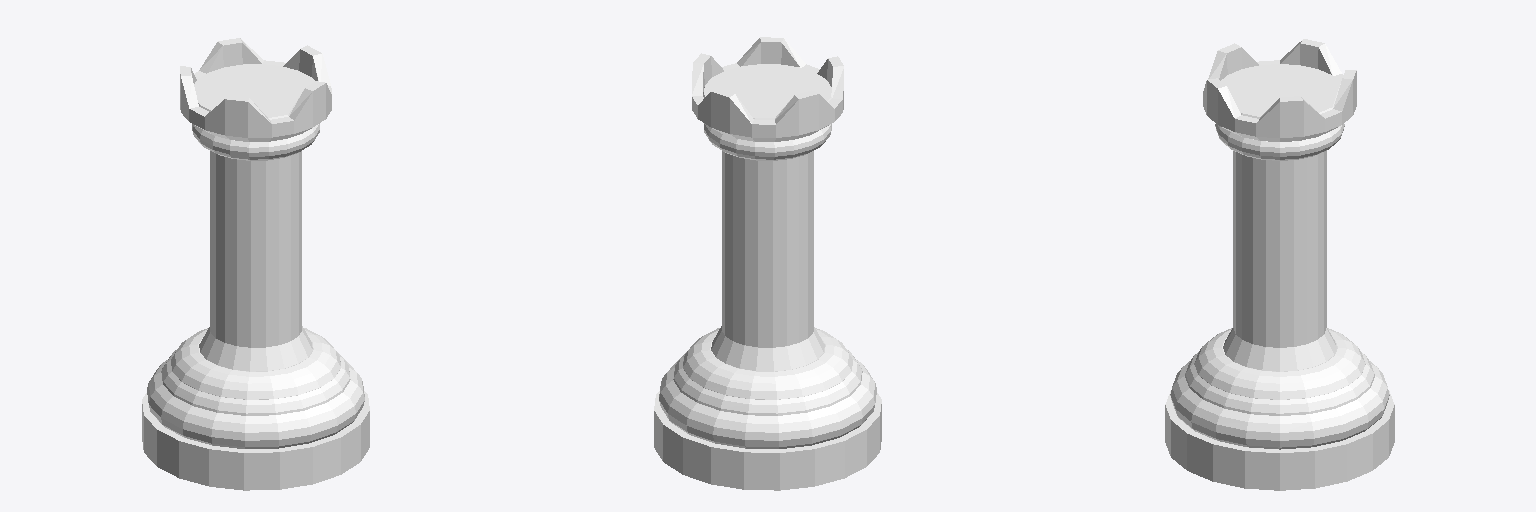
Rendered from Tour.obj.
3 renders of one model, left to right at view 1: azimuth 30°, elevation 25°; view 2: azimuth 150°, elevation 25°; view 3: azimuth 270°, elevation 25°, orthographic.
Parts seen in each view (by area): view 1: White_Rook_Mesh.003; view 2: White_Rook_Mesh.003; view 3: White_Rook_Mesh.003.
Part boxes in pixels (left/top/right/bottom): White_Rook_Mesh.003: left=142, top=38, right=369, bottom=490; White_Rook_Mesh.003: left=654, top=37, right=881, bottom=490; White_Rook_Mesh.003: left=1165, top=39, right=1394, bottom=490.
Bounding box in the file's own units: 0.02 × 0.0359 × 0.02.